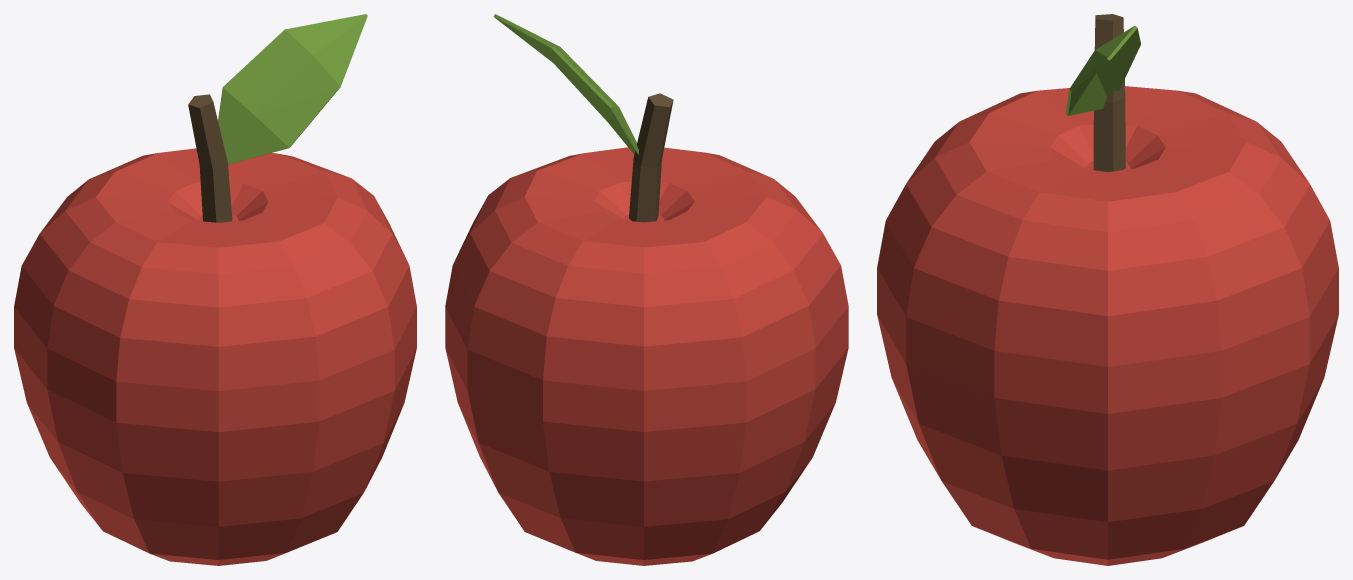
Rendered from apple.glb.
The picture shows the model from 3 angles, left to right: view 1: azimuth 30°, elevation 25°; view 2: azimuth 150°, elevation 25°; view 3: azimuth 270°, elevation 25°; orthographic projection. The views are drawn at different scales.
Parts seen in each view (by area): view 1: Apple continuous belly and shoulder; view 2: Apple continuous belly and shoulder; view 3: Apple continuous belly and shoulder.
Boxes of the visible parts, x1,y1,x2,y2 form: Apple continuous belly and shoulder: (14, 14, 416, 565); Apple continuous belly and shoulder: (445, 14, 848, 565); Apple continuous belly and shoulder: (877, 14, 1338, 565).
Size of the model in its own units: 0.08 by 0.1041 by 0.08.
